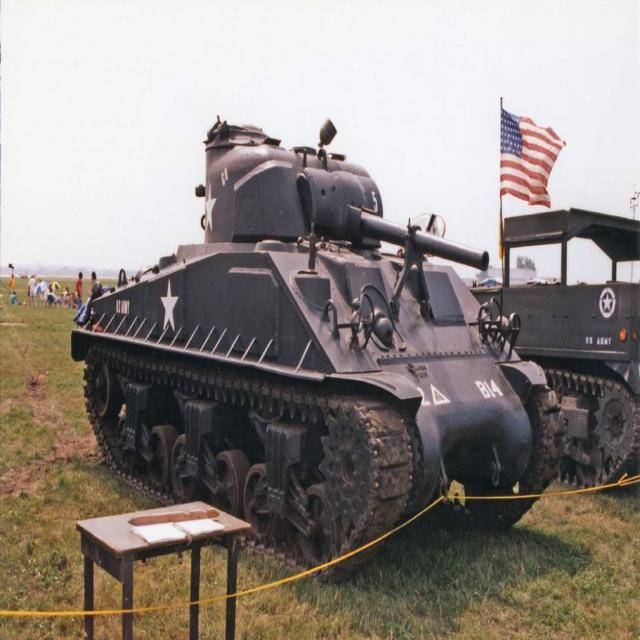tank: (71, 116, 567, 584), (471, 205, 640, 494)
